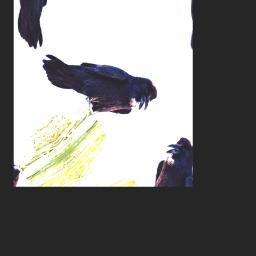Crow: (37, 7, 162, 152)
